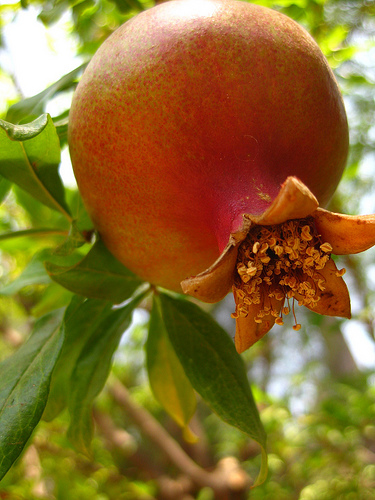pomogranate: (71, 0, 373, 356)
